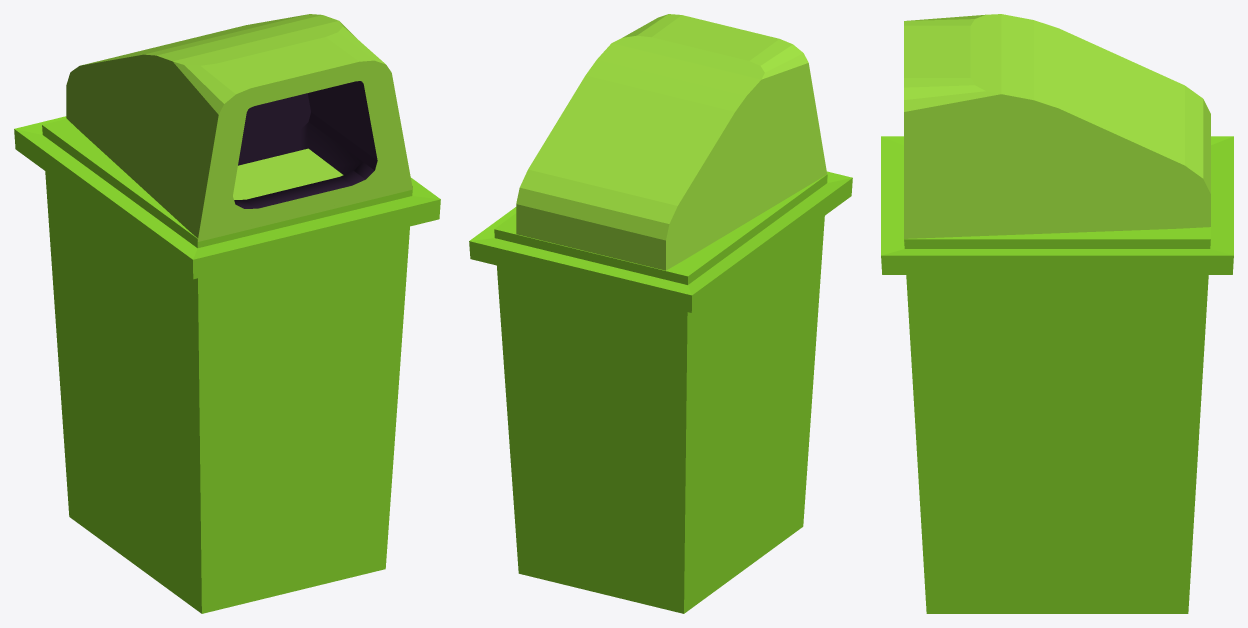
File: TachoLaSecuela.fbx
The picture shows the model from 3 angles, left to right: view 1: azimuth 30°, elevation 25°; view 2: azimuth 150°, elevation 25°; view 3: azimuth 270°, elevation 25°; orthographic projection. The views are drawn at different scales.
Parts seen in each view (by area): view 1: tacho; view 2: tacho; view 3: tacho.
Boxes of the visible parts, bbox=[...] form: tacho: bbox=[14, 14, 440, 613]; tacho: bbox=[469, 14, 852, 613]; tacho: bbox=[881, 14, 1233, 613].
Size of the model in its own units: 68.76 by 139 by 85.95.
